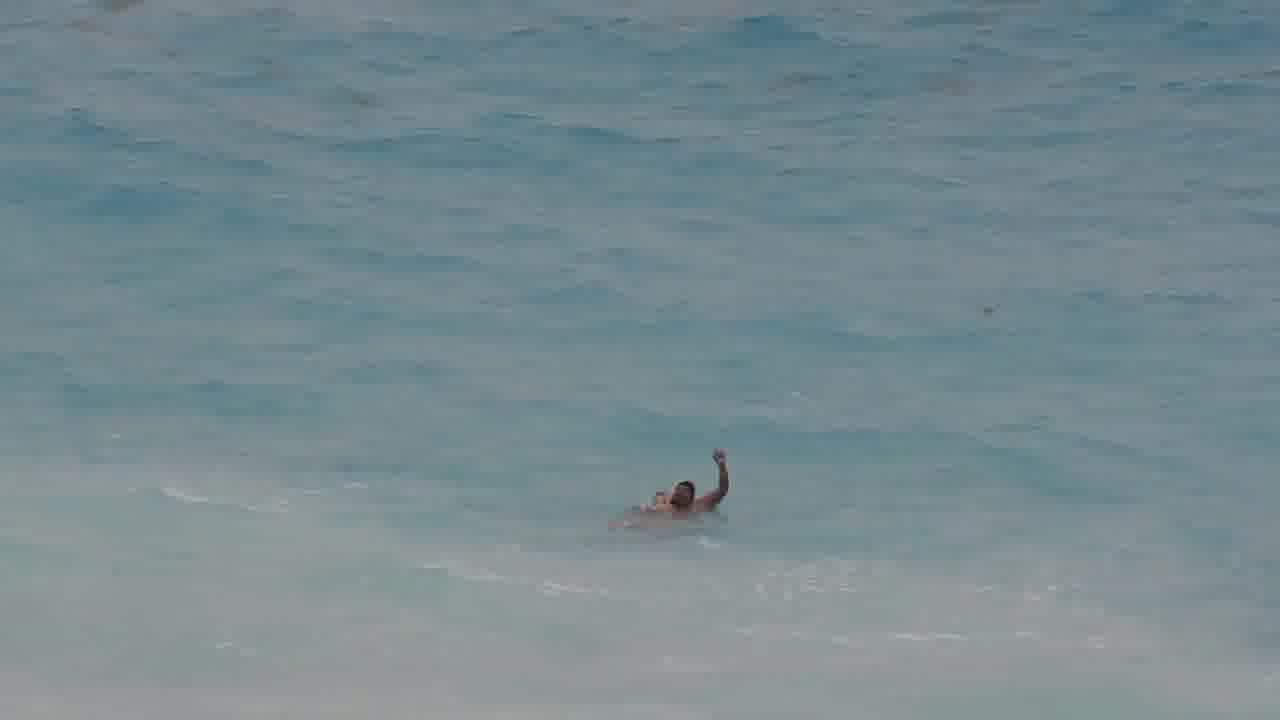human: (663, 474, 707, 522)
